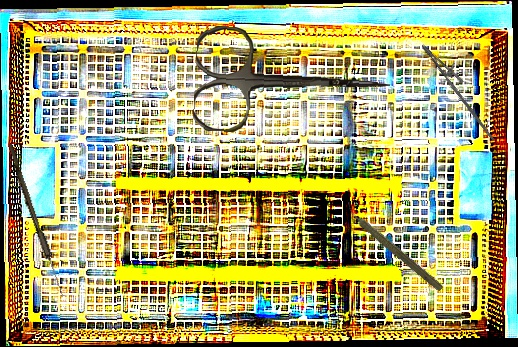Handpiece: (340, 200, 447, 294)
Iris Scissors: (192, 24, 393, 141)
Needle Holder: (410, 37, 512, 142)
Surgical Spoon: (4, 143, 68, 299)
